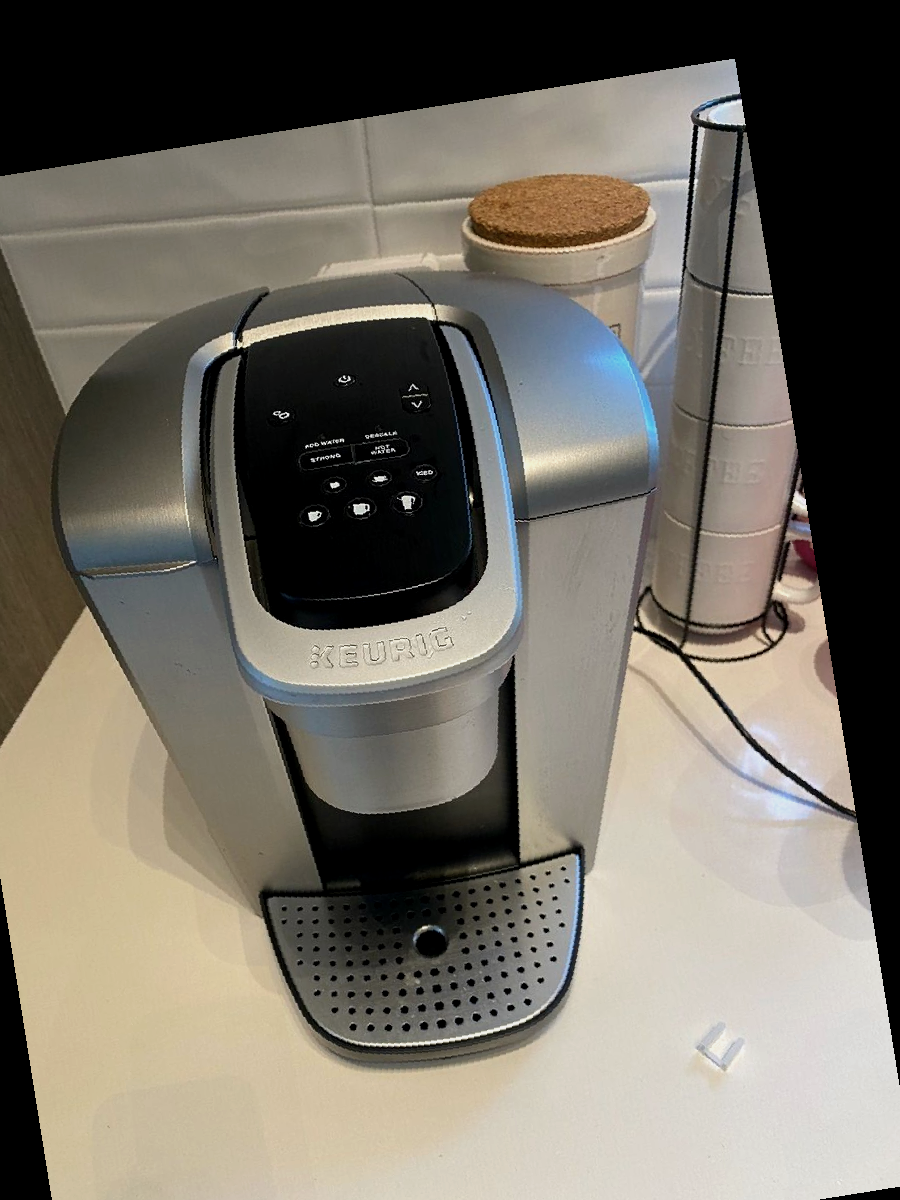10oz: (346, 497, 379, 524)
12oz: (392, 490, 425, 517)
4oz: (321, 475, 349, 496)
6oz: (366, 468, 394, 489)
8oz: (298, 502, 332, 531)
add_water: (290, 425, 350, 453)
descale: (348, 416, 408, 444)
hot: (352, 434, 412, 466)
iced: (412, 463, 441, 486)
power: (327, 367, 366, 394)
strong: (293, 443, 354, 475)
